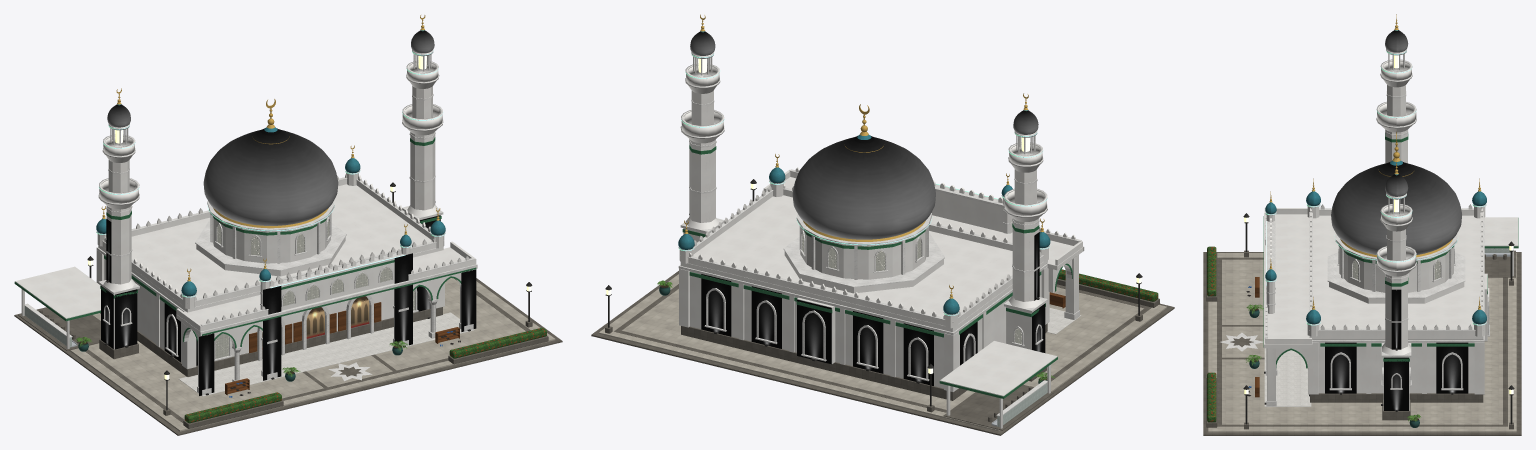
File: LM_ENV_Masjid.glb
3 renders of one model, left to right at view 1: azimuth 30°, elevation 25°; view 2: azimuth 150°, elevation 25°; view 3: azimuth 270°, elevation 25°, orthographic. The views are drawn at different scales.
Parts seen in each view (by area): view 1: masjid | Render white, masjid | Marble white, masjid | Plaza granite, masjid | Night wash green, masjid | Granite dark, masjid | Night wash warm, masjid | Serambi marble, masjid | Green glazed tile, masjid | Ixora hedge, masjid | Night glow jali, masjid | Teak, masjid | Night glow interior (+3 smaller); view 2: masjid | Render white, masjid | Plaza granite, masjid | Night wash green, masjid | Marble white, masjid | Granite dark, masjid | Night wash warm, masjid | Green glazed tile, masjid | Dome glaze teal, masjid | Ixora hedge, masjid | Brass gold, masjid | Night glow jali; view 3: masjid | Render white, masjid | Plaza granite, masjid | Granite dark, masjid | Night wash green, masjid | Marble white, masjid | Night wash warm, masjid | Serambi marble, masjid | Green glazed tile, masjid | Dome glaze teal, masjid | Ixora hedge, masjid | Brass gold, masjid | Lamp iron (+1 smaller).
Part boxes in pixels (x1=…): masjid | Render white: x1=15, y1=62, x2=476, y2=386; masjid | Marble white: x1=24, y1=49, x2=477, y2=395; masjid | Plaza granite: x1=69, y1=278, x2=555, y2=431; masjid | Night wash green: x1=107, y1=30, x2=434, y2=225; masjid | Granite dark: x1=14, y1=278, x2=562, y2=435; masjid | Night wash warm: x1=101, y1=215, x2=476, y2=395; masjid | Serambi marble: x1=179, y1=312, x2=474, y2=396; masjid | Green glazed tile: x1=14, y1=137, x2=476, y2=348; masjid | Ixora hedge: x1=184, y1=327, x2=546, y2=423; masjid | Night glow jali: x1=215, y1=219, x2=415, y2=358; masjid | Teak: x1=225, y1=302, x2=459, y2=395; masjid | Night glow interior: x1=262, y1=296, x2=369, y2=349; masjid | Render white: x1=679, y1=65, x2=1083, y2=428; masjid | Plaza granite: x1=599, y1=274, x2=1166, y2=431; masjid | Night wash green: x1=690, y1=31, x2=1038, y2=239; masjid | Marble white: x1=678, y1=52, x2=1084, y2=416; masjid | Granite dark: x1=591, y1=271, x2=1174, y2=435; masjid | Night wash warm: x1=701, y1=232, x2=1045, y2=385; masjid | Green glazed tile: x1=682, y1=145, x2=1072, y2=398; masjid | Dome glaze teal: x1=678, y1=31, x2=1050, y2=314; masjid | Ixora hedge: x1=1058, y1=269, x2=1158, y2=301; masjid | Brass gold: x1=684, y1=14, x2=1044, y2=298; masjid | Night glow jali: x1=802, y1=233, x2=1021, y2=344; masjid | Render white: x1=1265, y1=61, x2=1518, y2=410; masjid | Plaza granite: x1=1208, y1=253, x2=1516, y2=432; masjid | Granite dark: x1=1203, y1=250, x2=1521, y2=435; masjid | Night wash green: x1=1331, y1=30, x2=1461, y2=254; masjid | Marble white: x1=1220, y1=49, x2=1489, y2=406; masjid | Night wash warm: x1=1325, y1=289, x2=1468, y2=410; masjid | Serambi marble: x1=1264, y1=348, x2=1311, y2=406; masjid | Green glazed tile: x1=1263, y1=134, x2=1518, y2=368; masjid | Dome glaze teal: x1=1265, y1=30, x2=1486, y2=324; masjid | Ixora hedge: x1=1207, y1=246, x2=1216, y2=422; masjid | Brass gold: x1=1269, y1=14, x2=1481, y2=309; masjid | Lamp iron: x1=1243, y1=213, x2=1514, y2=424.
Size of the model in its own units: 38.13 by 25.02 by 28.
25 materials, 15 textured.
